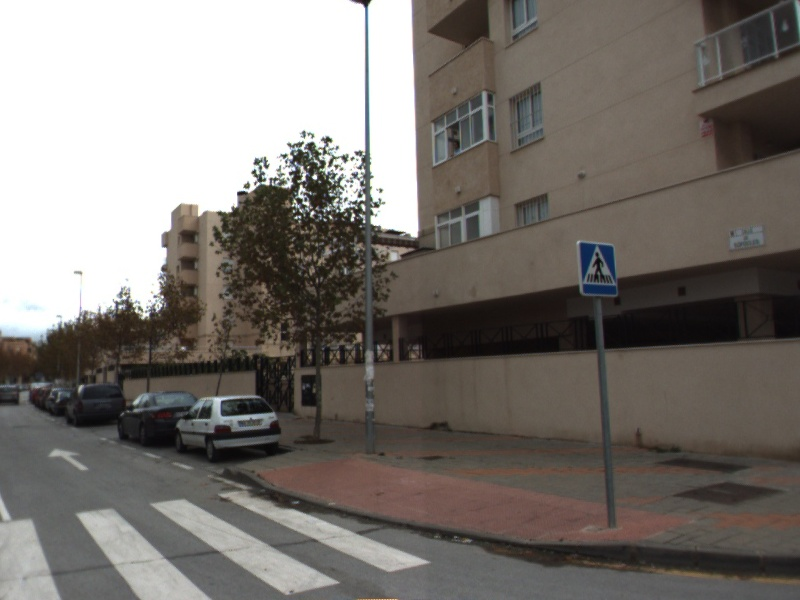STRAIGHT: (46, 446, 91, 472)
